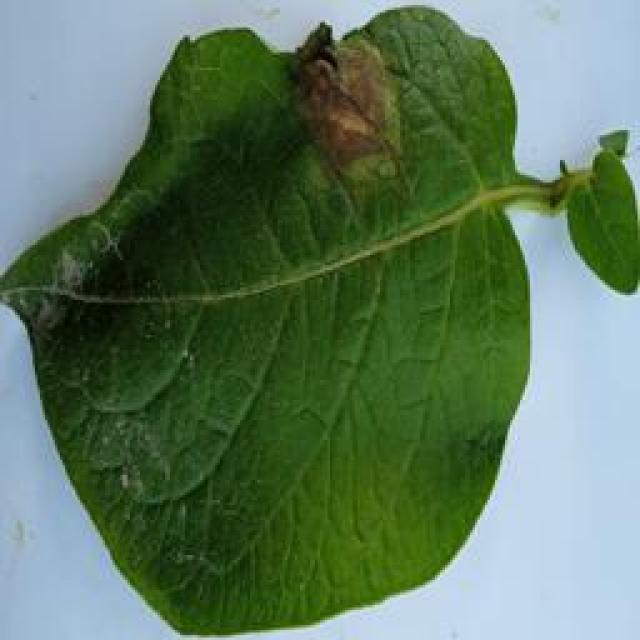Potato_Late_Blight: (2, 12, 616, 636)
